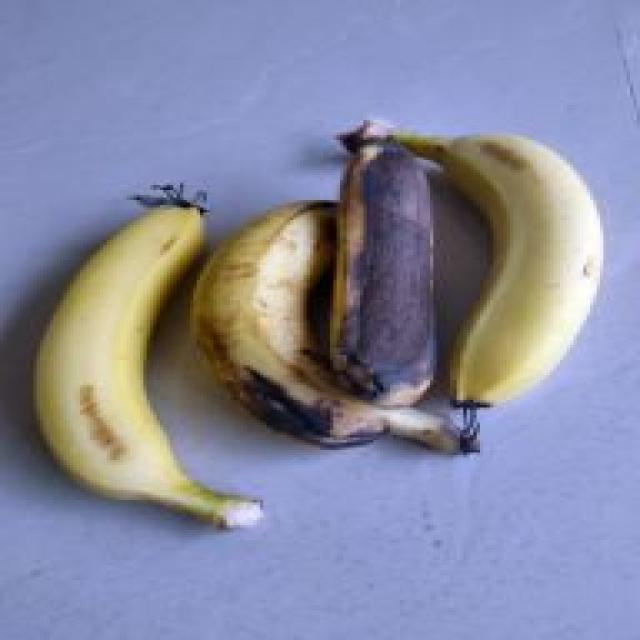Wet: (187, 195, 483, 457), (326, 115, 436, 405)
